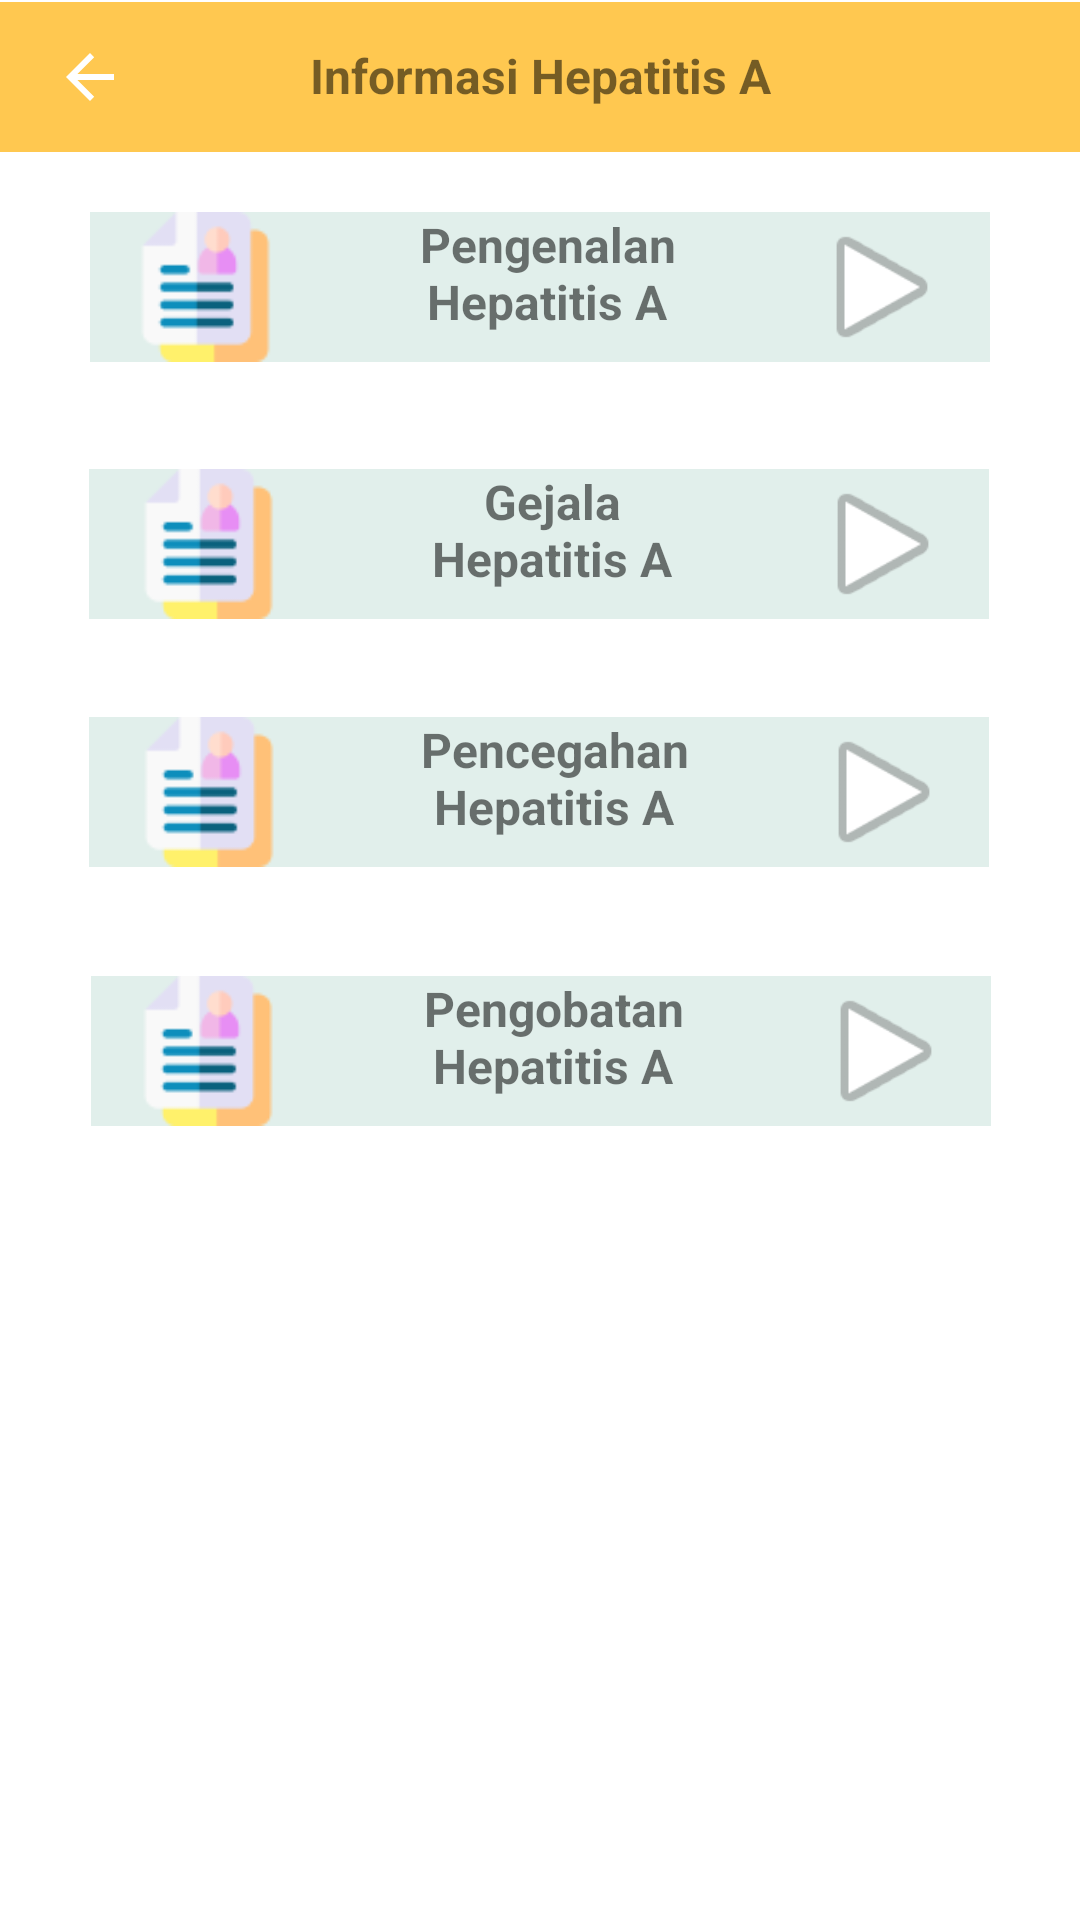

Icon click points for this 1080px x 1920px phone screenshot, format (x=x, y=y):
infohepa: (x=205, y=287), (x=208, y=544), (x=209, y=792), (x=208, y=1051)
play: (x=882, y=287), (x=883, y=544), (x=884, y=792), (x=886, y=1051)
